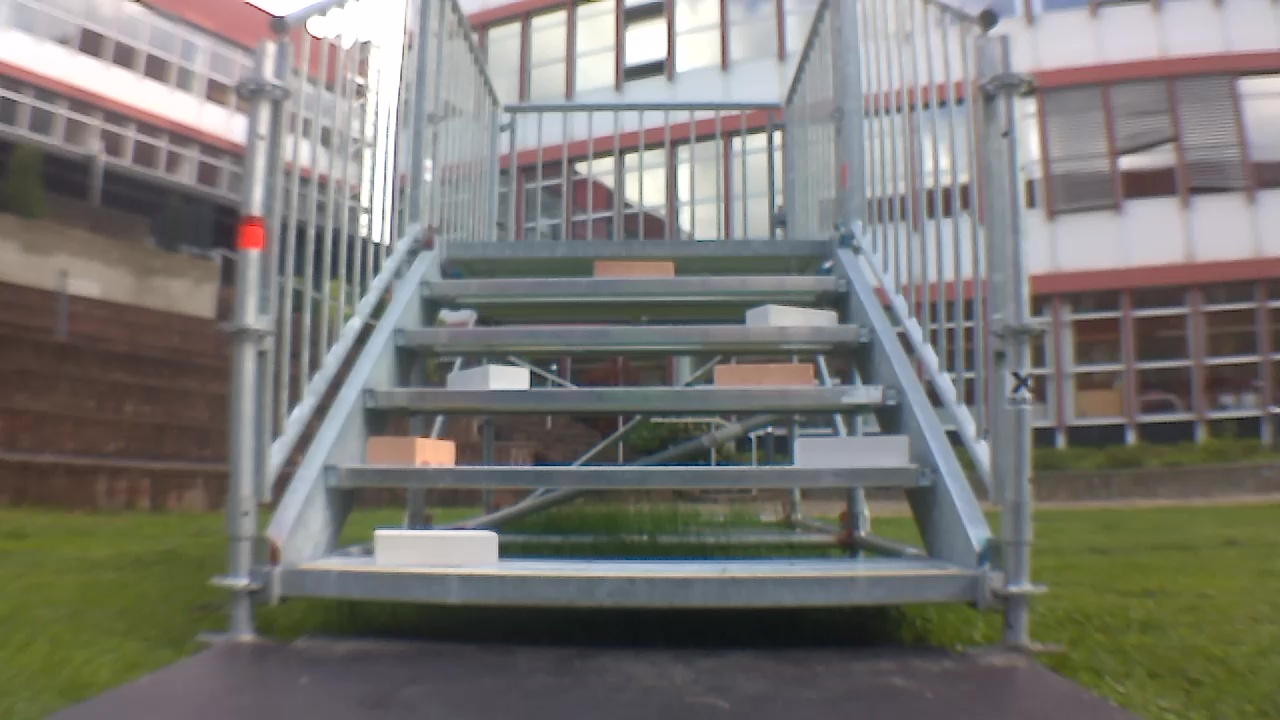brick: (370, 528, 502, 570), (791, 432, 913, 472), (362, 434, 455, 468), (711, 361, 817, 390), (447, 362, 531, 391), (745, 306, 848, 327), (589, 260, 677, 277)
edge: (279, 569, 983, 598), (319, 464, 939, 491), (361, 386, 902, 409), (391, 325, 874, 346), (414, 275, 850, 297), (444, 240, 830, 258)
stairs: (240, 0, 1017, 646)
steps: (263, 237, 982, 607)
